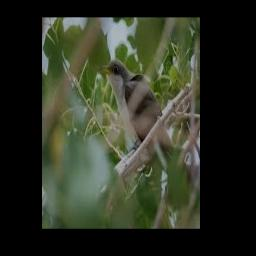Cuckoo: (97, 59, 173, 175)
